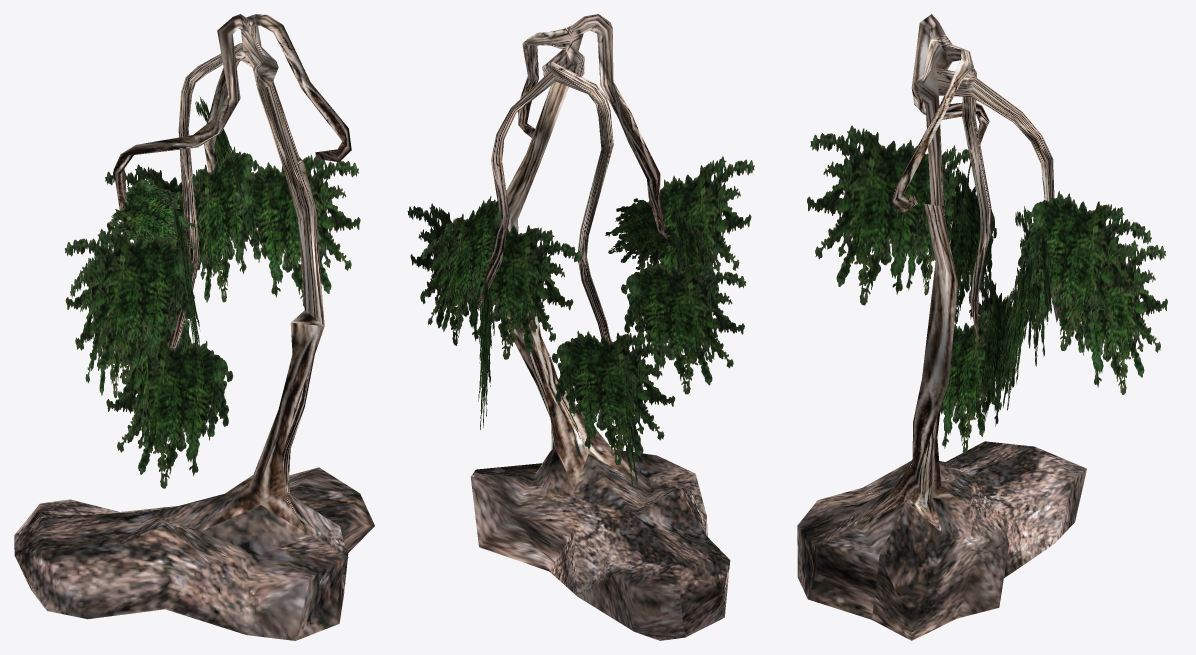
The model's file is frn_all_plant_potted_lg_s4_l0.fbx.
3 renders of one model, left to right at view 1: azimuth 30°, elevation 25°; view 2: azimuth 150°, elevation 25°; view 3: azimuth 270°, elevation 25°, orthographic. The views are drawn at different scales.
Visible parts, largest first — view 1: mesh_node; view 2: mesh_node; view 3: mesh_node.
Part boxes in pixels (bbox=[...]): mesh_node: bbox=[14, 14, 374, 640]; mesh_node: bbox=[407, 14, 754, 640]; mesh_node: bbox=[797, 14, 1167, 640].
Bounding box in the file's own units: 1.06 × 1.74 × 1.06.
